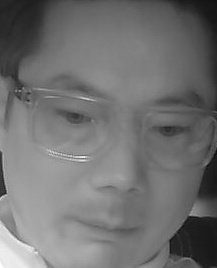eye: (54, 106, 95, 129), (149, 119, 189, 140)
glass: (27, 85, 118, 161), (137, 104, 216, 169)
mouth: (66, 209, 144, 252)
